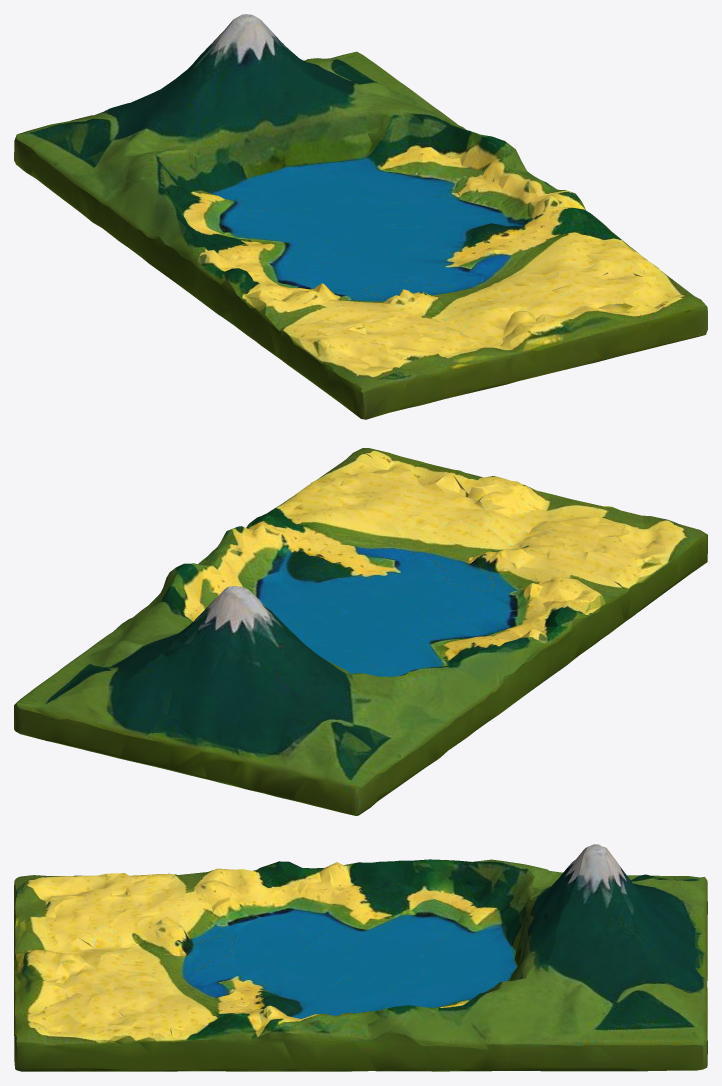
The model's file is lake-ikeda.glb.
3 renders of one model, top to bottom at view 1: azimuth 30°, elevation 25°; view 2: azimuth 150°, elevation 25°; view 3: azimuth 270°, elevation 25°, orthographic.
Visible parts, largest first — view 1: logan-textured.obj; view 2: logan-textured.obj; view 3: logan-textured.obj.
Part boxes in pixels (box(x1,y1,x2,y2)): logan-textured.obj: box(14, 14, 707, 419); logan-textured.obj: box(14, 448, 707, 815); logan-textured.obj: box(14, 844, 707, 1071).
Bounding box in the file's own units: 0.5789 × 0.2304 × 1.
Materials: 1 (1 with a texture image).
